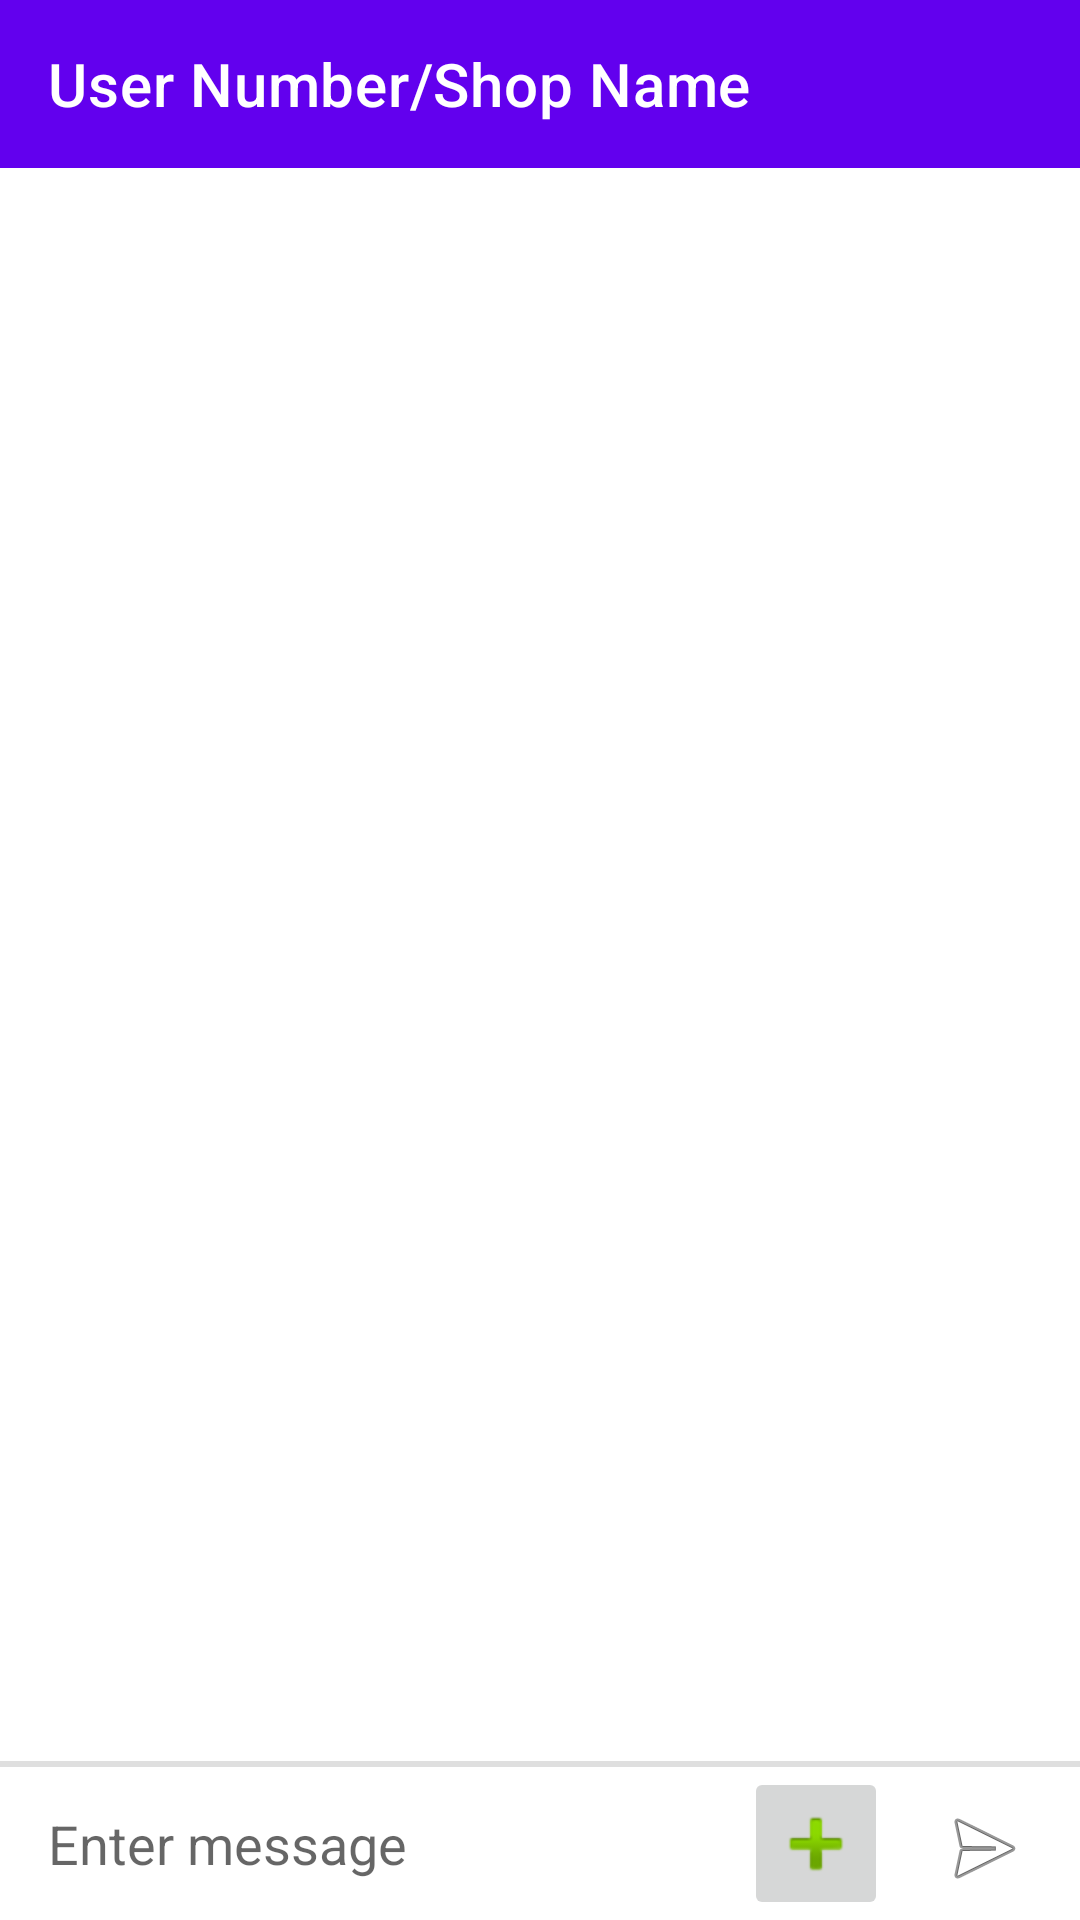

Point at icon controls on the screen. Image size 1080*1920, points as [x,y].
add: [816,1843]
send: [985,1848]
